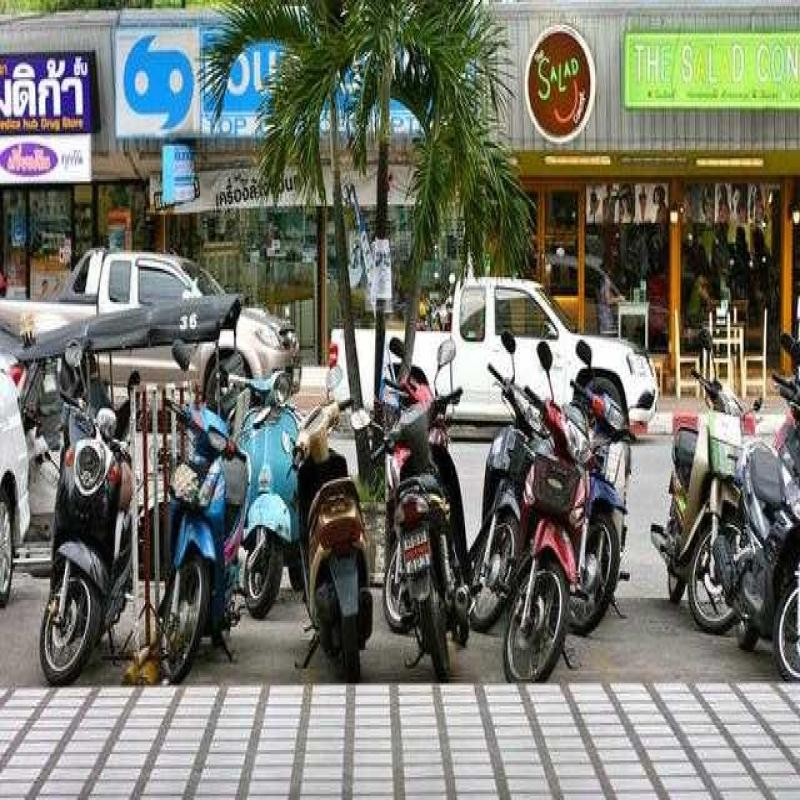bike: (374, 357, 477, 661), (278, 372, 382, 669), (38, 333, 125, 682), (513, 369, 587, 679), (158, 365, 238, 643), (486, 356, 556, 604), (238, 350, 296, 597), (586, 384, 622, 626)
